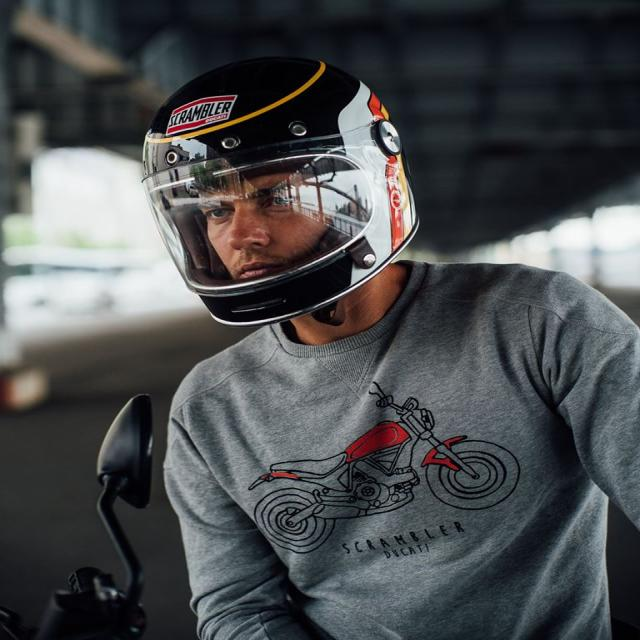helmet: (130, 48, 432, 332)
